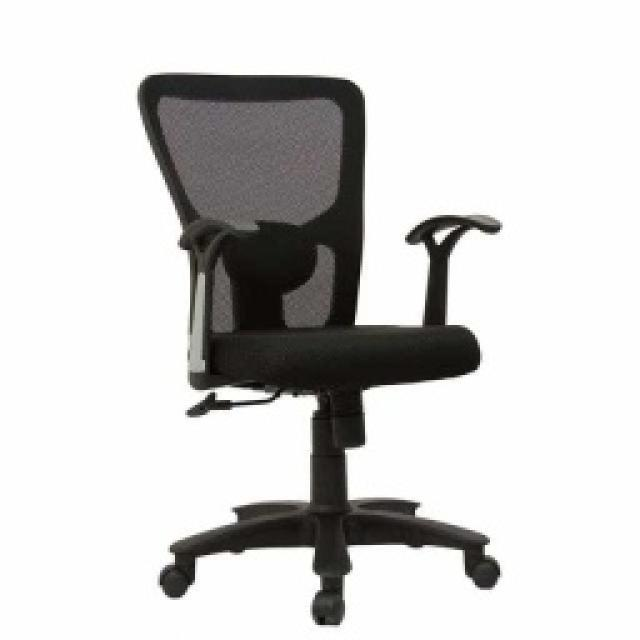sandalye: (135, 70, 503, 625)
